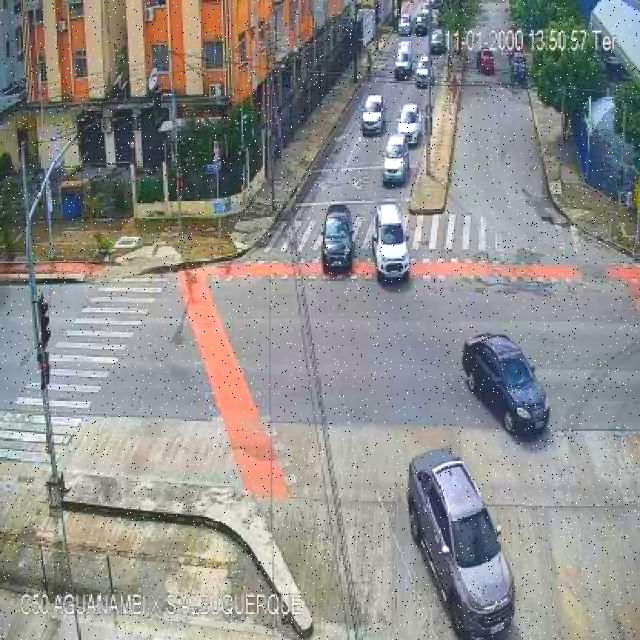bicycle: (508, 62, 516, 95), (364, 50, 372, 78)
car: (406, 449, 520, 634), (462, 330, 550, 442), (373, 203, 412, 277), (319, 203, 355, 277), (382, 134, 409, 182), (396, 100, 422, 143), (362, 96, 384, 130), (414, 53, 432, 87), (396, 38, 412, 76), (475, 47, 494, 75), (511, 53, 527, 79), (430, 28, 444, 52), (414, 15, 428, 38), (396, 13, 409, 35)
motorbike: (451, 72, 458, 103), (516, 62, 521, 84), (358, 35, 362, 57)
